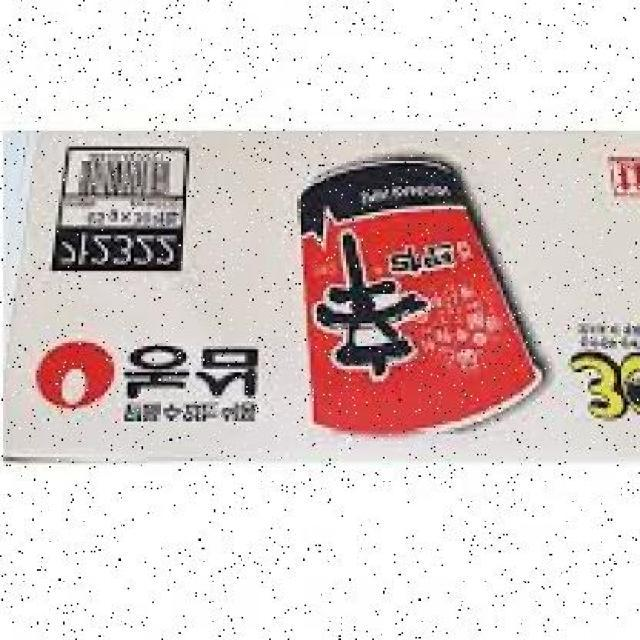Miscellaneous: (283, 159, 537, 441)
